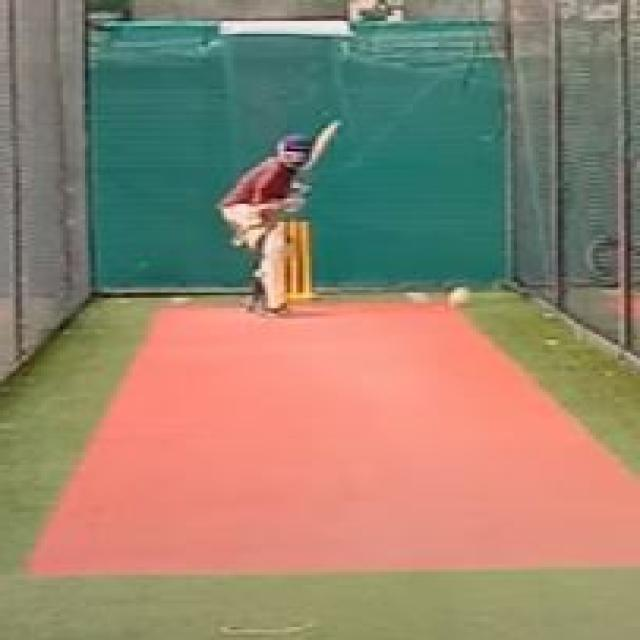ball: (437, 280, 481, 310)
